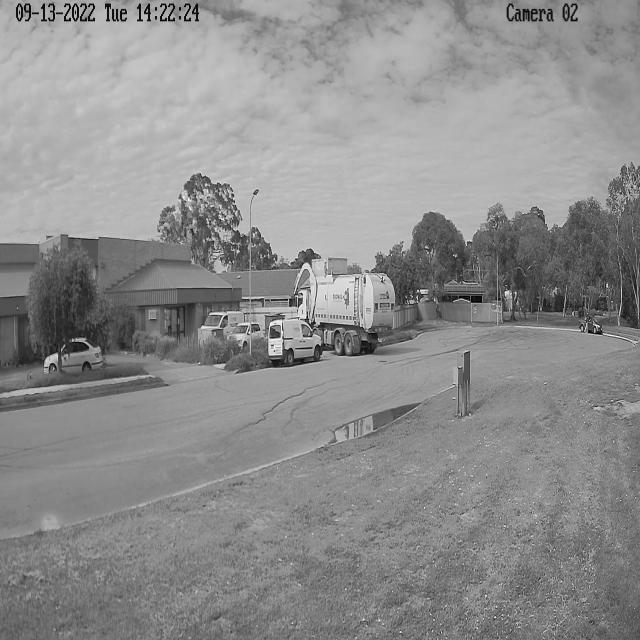Garbage Truck: (291, 257, 396, 356)
Sedan: (44, 337, 103, 374)
Van: (268, 319, 322, 368)
